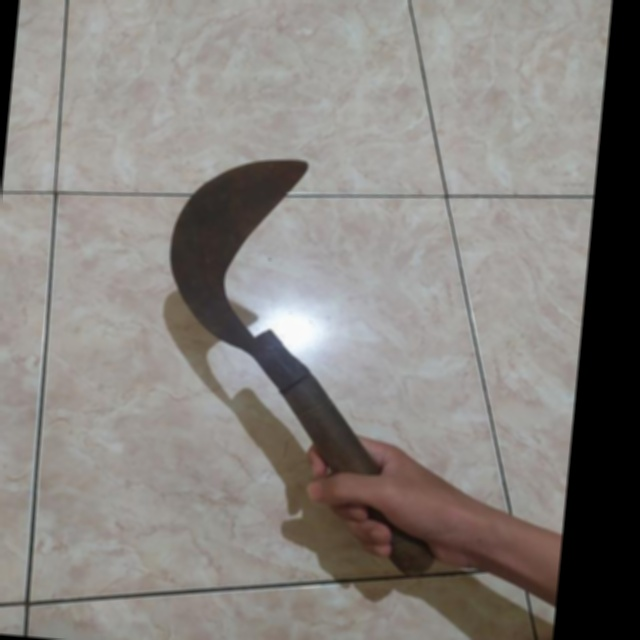Sharp-Object: (130, 117, 489, 604)
